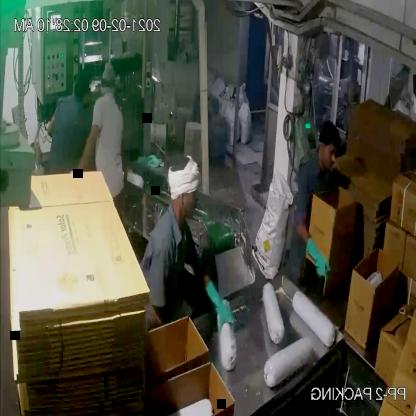glove: (201, 272, 237, 334), (301, 235, 334, 282)
no_glove: (72, 114, 106, 176)
